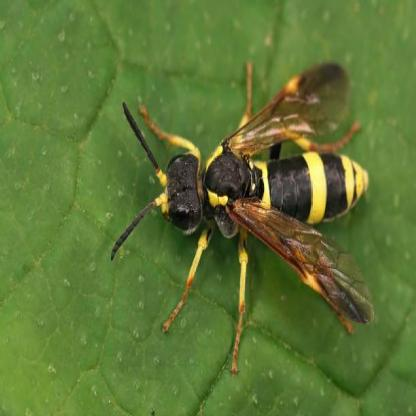sawfly: (107, 54, 382, 376)
